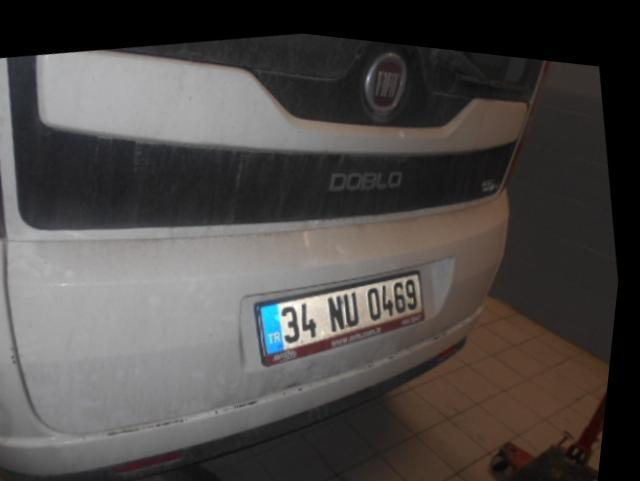scratch: (117, 413, 192, 430), (218, 394, 266, 407), (14, 342, 28, 374), (437, 320, 455, 330), (315, 373, 326, 380), (394, 344, 404, 350), (372, 353, 381, 359), (288, 382, 295, 389), (306, 379, 312, 383)
